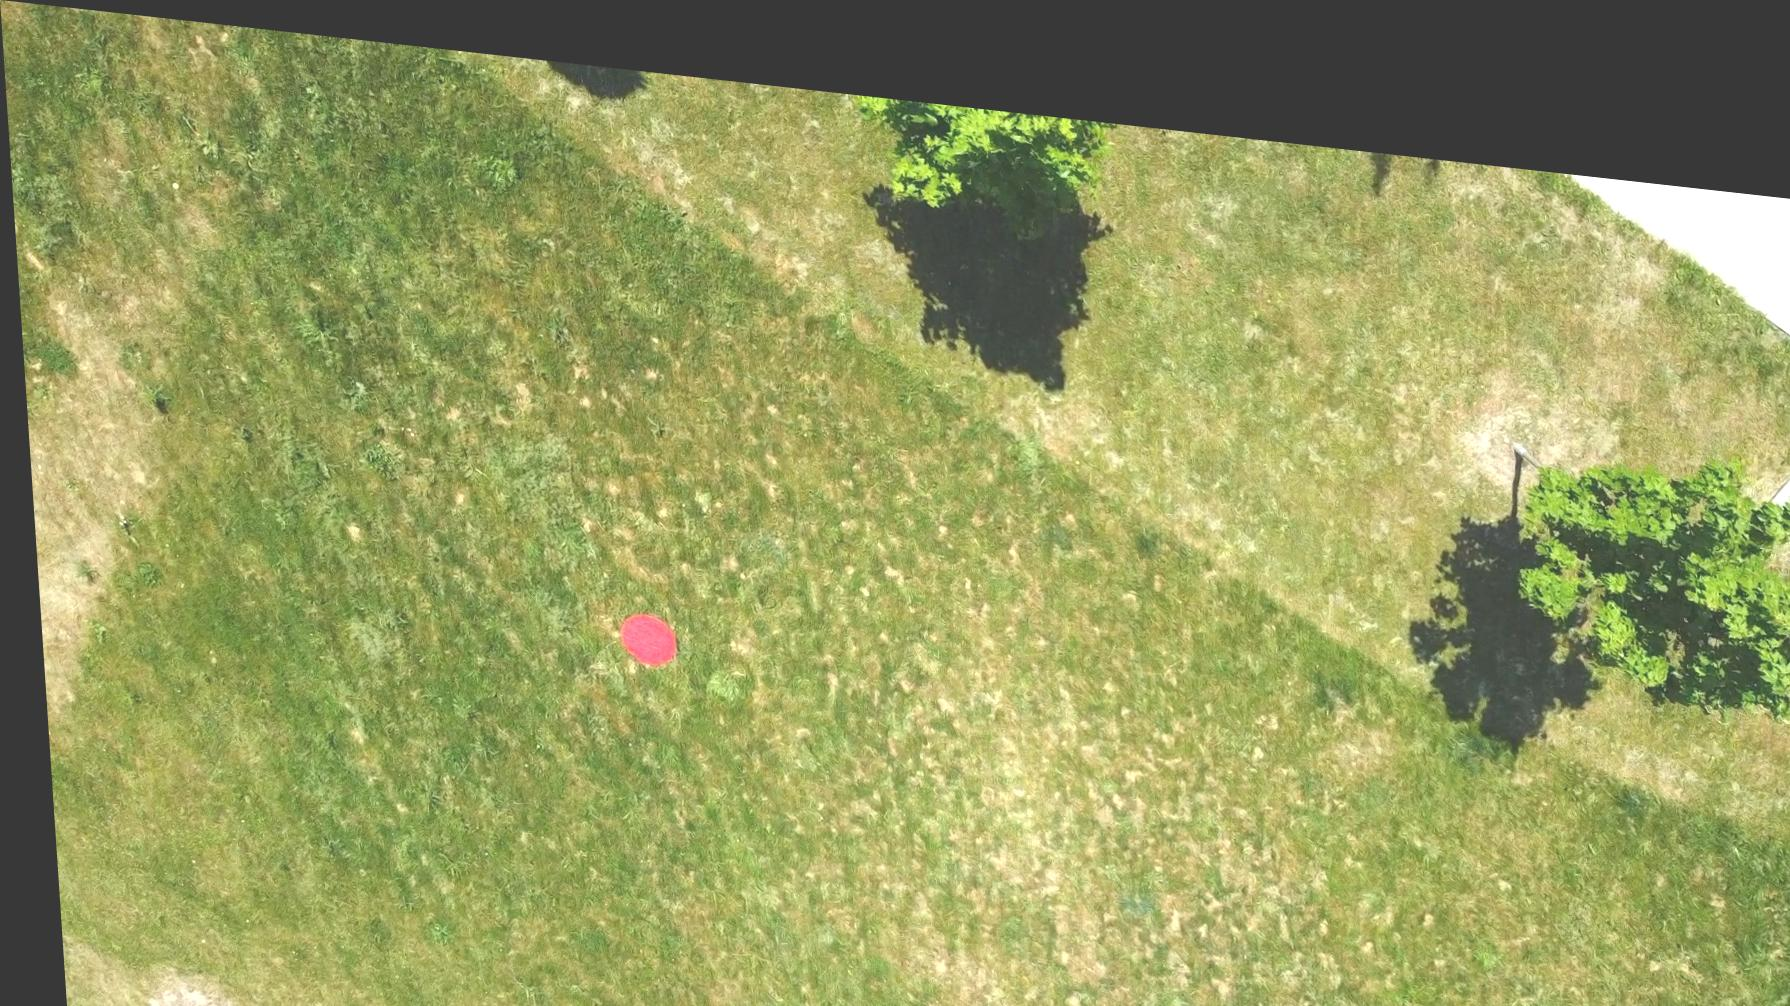Red: (609, 594, 675, 657)
